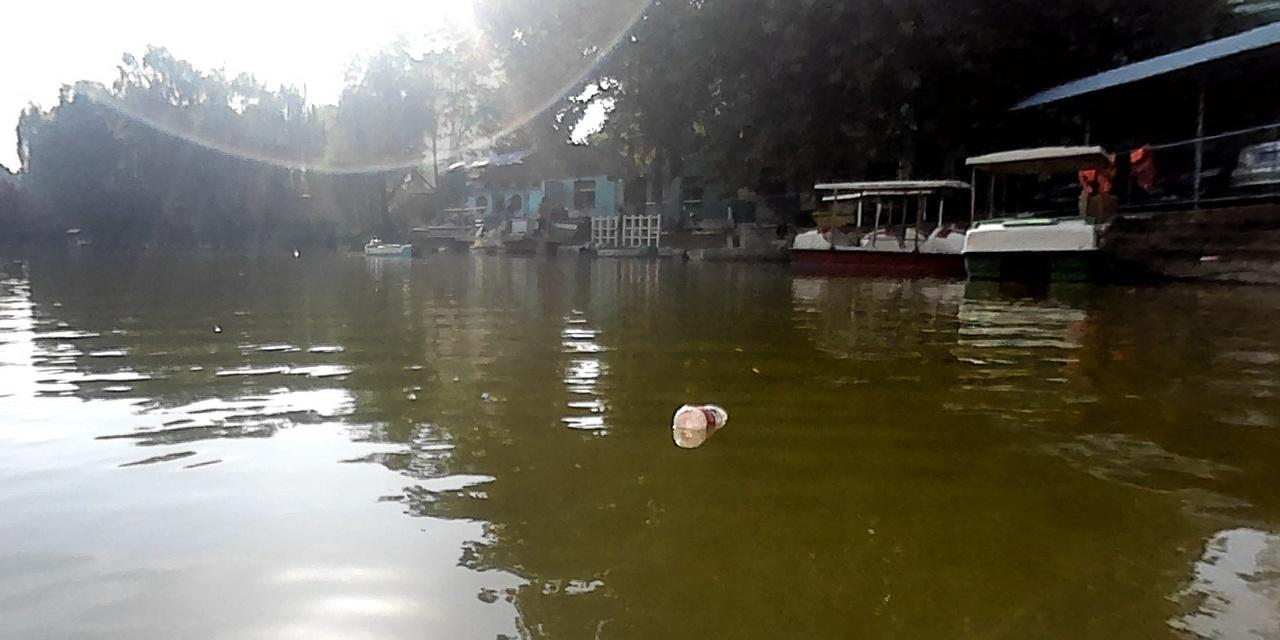bottle: (670, 401, 727, 429)
